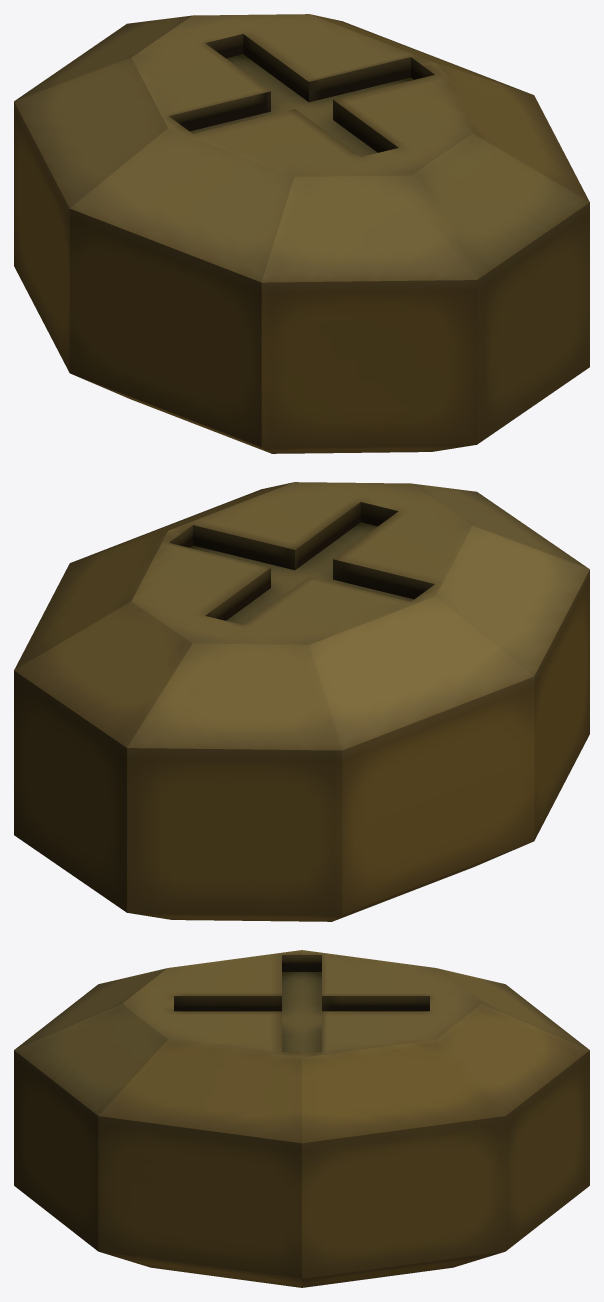
Rendered from ekmek.fbx.
3 renders of one model, top to bottom at view 1: azimuth 30°, elevation 25°; view 2: azimuth 150°, elevation 25°; view 3: azimuth 270°, elevation 25°, orthographic. The views are drawn at different scales.
Visible parts, largest first — view 1: Circle.004; view 2: Circle.004; view 3: Circle.004.
Part boxes in pixels (<box>): Circle.004: <box>14,14,589,453</box>; Circle.004: <box>14,482,589,921</box>; Circle.004: <box>14,950,589,1287</box>.
Bounding box in the file's own units: 70.75 × 38.04 × 92.36.
